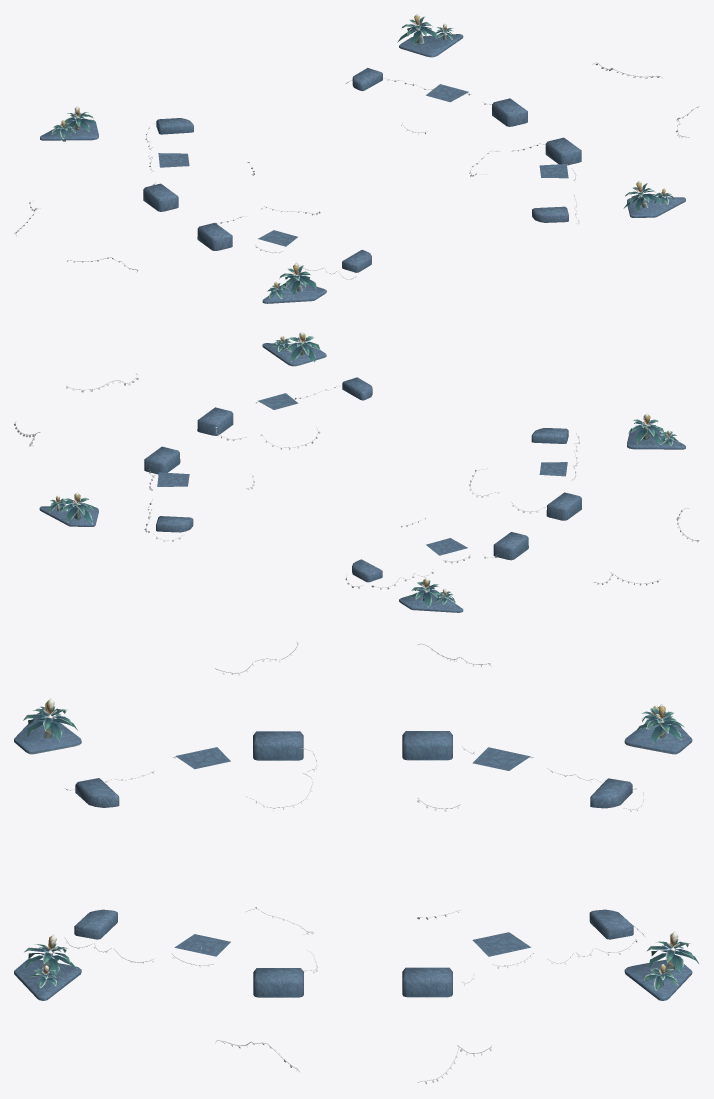
File: pref_sm_beach_bk_winter_pointmol_centerplant_C01_lv0.fbx
3 views of the same model, one above another, from view 1: azimuth 30°, elevation 25°; view 2: azimuth 150°, elevation 25°; view 3: azimuth 270°, elevation 25° (orthographic). The views are drawn at different scales.
Visible parts, largest first — view 1: pref_sm_beach_bk_winter_pointmol_centerplant_C01_lv0, sm_beach_bk_winter_pointmol_centerplant_C01b_lv0; view 2: pref_sm_beach_bk_winter_pointmol_centerplant_C01_lv0, sm_beach_bk_winter_pointmol_centerplant_C01b_lv0; view 3: pref_sm_beach_bk_winter_pointmol_centerplant_C01_lv0, sm_beach_bk_winter_pointmol_centerplant_C01b_lv0.
Part boxes in pixels (left/top/right/bottom): pref_sm_beach_bk_winter_pointmol_centerplant_C01_lv0: left=40, top=14, right=685, bottom=303; sm_beach_bk_winter_pointmol_centerplant_C01b_lv0: left=14, top=62, right=699, bottom=279; pref_sm_beach_bk_winter_pointmol_centerplant_C01_lv0: left=39, top=332, right=685, bottom=612; sm_beach_bk_winter_pointmol_centerplant_C01b_lv0: left=14, top=373, right=699, bottom=589; pref_sm_beach_bk_winter_pointmol_centerplant_C01_lv0: left=14, top=698, right=699, bottom=1000; sm_beach_bk_winter_pointmol_centerplant_C01b_lv0: left=64, top=641, right=644, bottom=1084.
Size of the model in its own units: 77.72 by 4.67 by 51.41.
